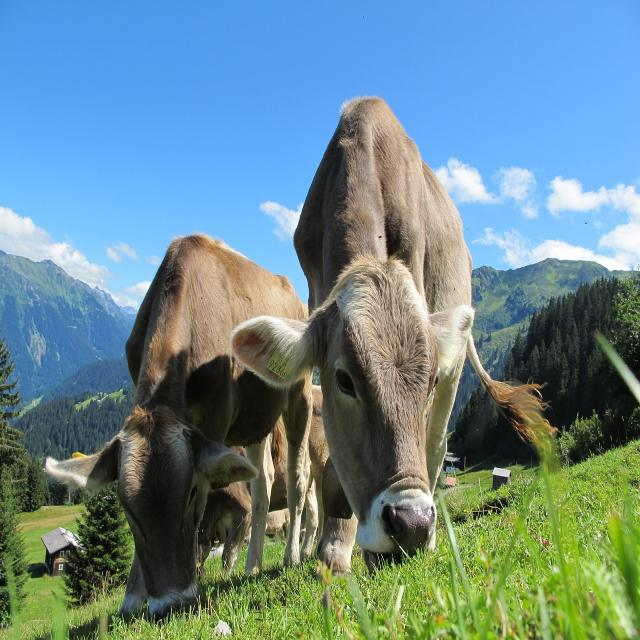Herbivorous: (234, 97, 488, 576), (68, 235, 312, 623)
